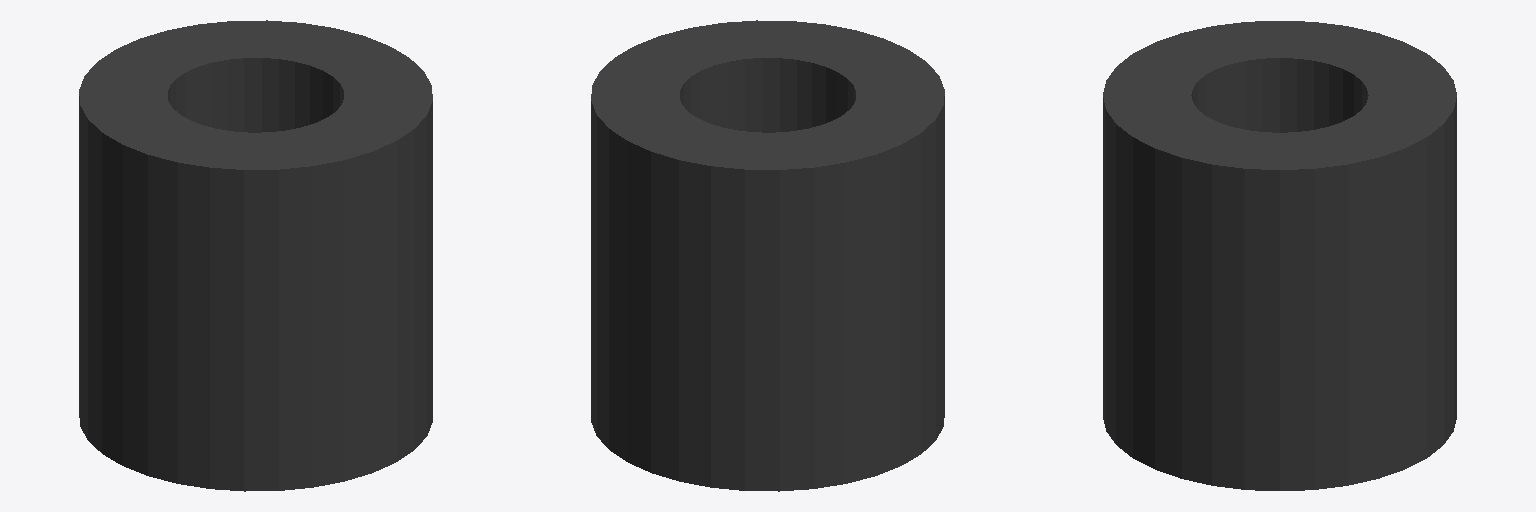
URDF robot description (hollow_cylinder):
<?xml version="1.0"?>
<robot name="hollow_cylinder">
    <link name="hollow_cylinder">
        <inertial>
            <origin rpy="0 0 0" xyz="0 0 0" />
            <mass value="1" />
        </inertial>
        <visual>
            <origin rpy="0 0 0" xyz="0 0 0" />
            <geometry>
                <mesh filename="mesh/hollow_cylinder.obj" scale="1.0 1.0 1.0" />
            </geometry>
            <material name="material">
                <color rgba="0.3 0.3 0.3 1" />
            </material>
        </visual>
        <collision>
            <origin rpy="0 0 0" xyz="0 0 0" />
            <geometry>
                <box size="0.05 0.05 0.05" />
            </geometry>
        </collision>
    </link>
</robot>

--- Facts derived from the render (not from the file) ---
The picture shows the robot from 3 angles, left to right: view 1: azimuth 30°, elevation 25°; view 2: azimuth 150°, elevation 25°; view 3: azimuth 270°, elevation 25°; orthographic projection.
Model hollow_cylinder with 1 links and 0 joints (none), rooted at hollow_cylinder, posed all joints at 0.
Visible links, largest first — view 1: hollow_cylinder; view 2: hollow_cylinder; view 3: hollow_cylinder.
Link boxes in pixels (<box>): hollow_cylinder: <box>79,20,432,491</box>; hollow_cylinder: <box>591,20,944,491</box>; hollow_cylinder: <box>1103,21,1456,490</box>.
Bounding box of the posed robot: 2 × 2 × 2 m (x, y, z).
1 mesh visuals loaded from 1 distinct referenced files (1 OBJ).